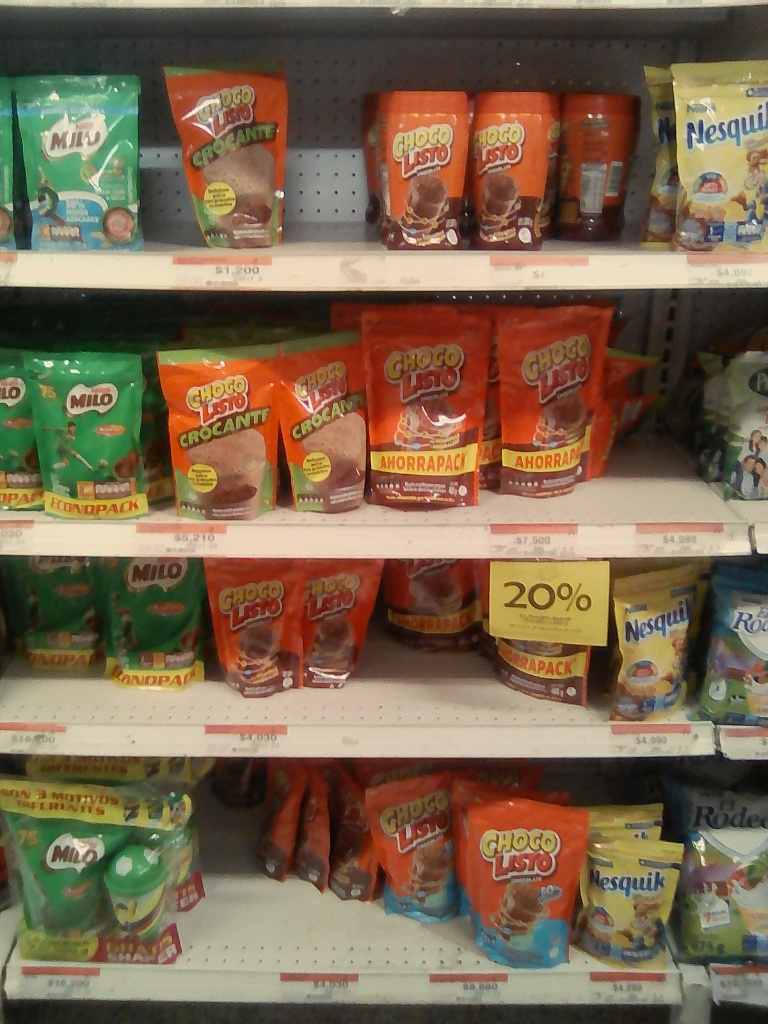COL0170102DYP25000: (171, 61, 296, 258)
COL0170103DYP20000: (208, 554, 299, 694)
COL0170103DYP44000: (363, 306, 480, 516)
COL0170103TRR30000: (363, 90, 464, 256)
COL0170104DYP20000: (360, 764, 458, 936)
COL0170203DYP25000: (2, 341, 148, 514)
COL0170203DYP50000: (6, 761, 111, 961)
COL0170205DYP20000: (11, 73, 151, 252)
COL0170303DYP20000: (650, 57, 768, 251)
COL0170306DYP20000: (574, 830, 694, 975)
